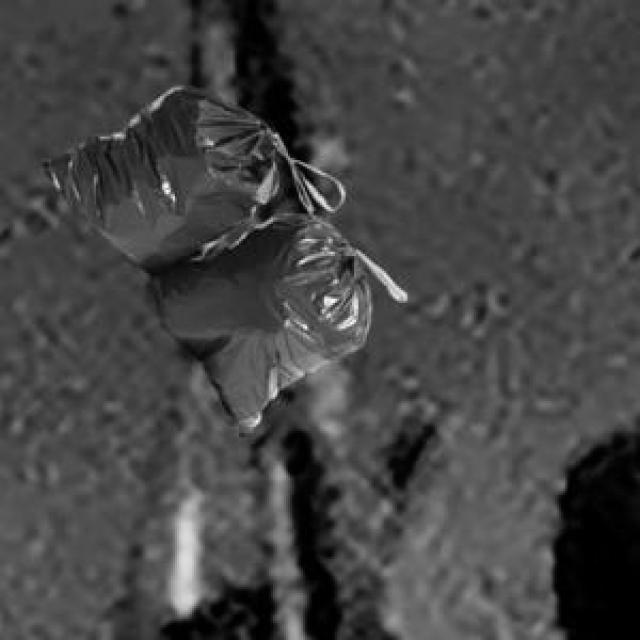miscellaneous trash: (36, 83, 403, 435)
